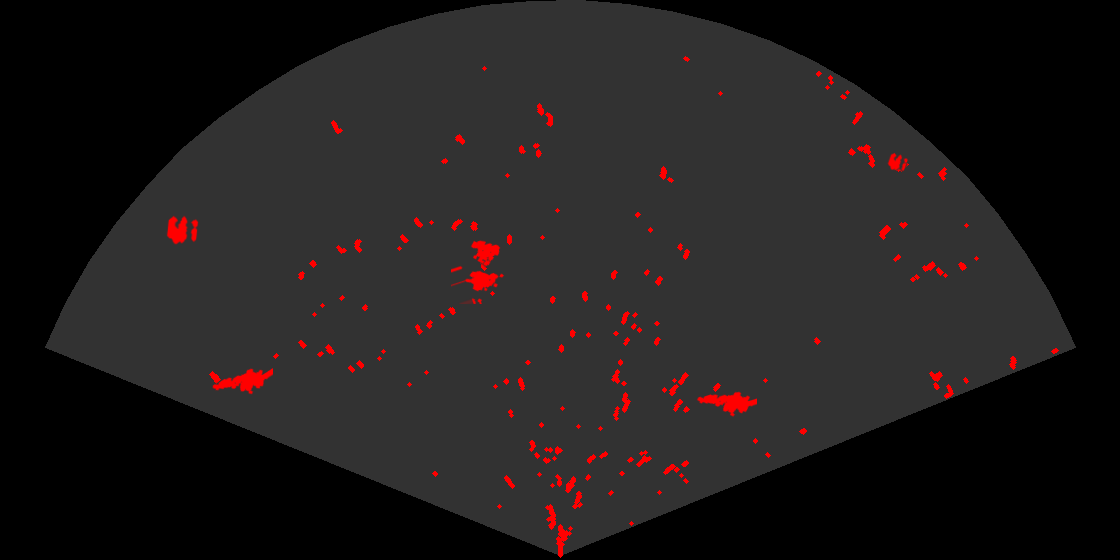ball: (165, 214, 200, 246), (886, 151, 910, 173)
cage: (451, 239, 506, 304)
frogman: (211, 367, 273, 396), (695, 390, 757, 418)
